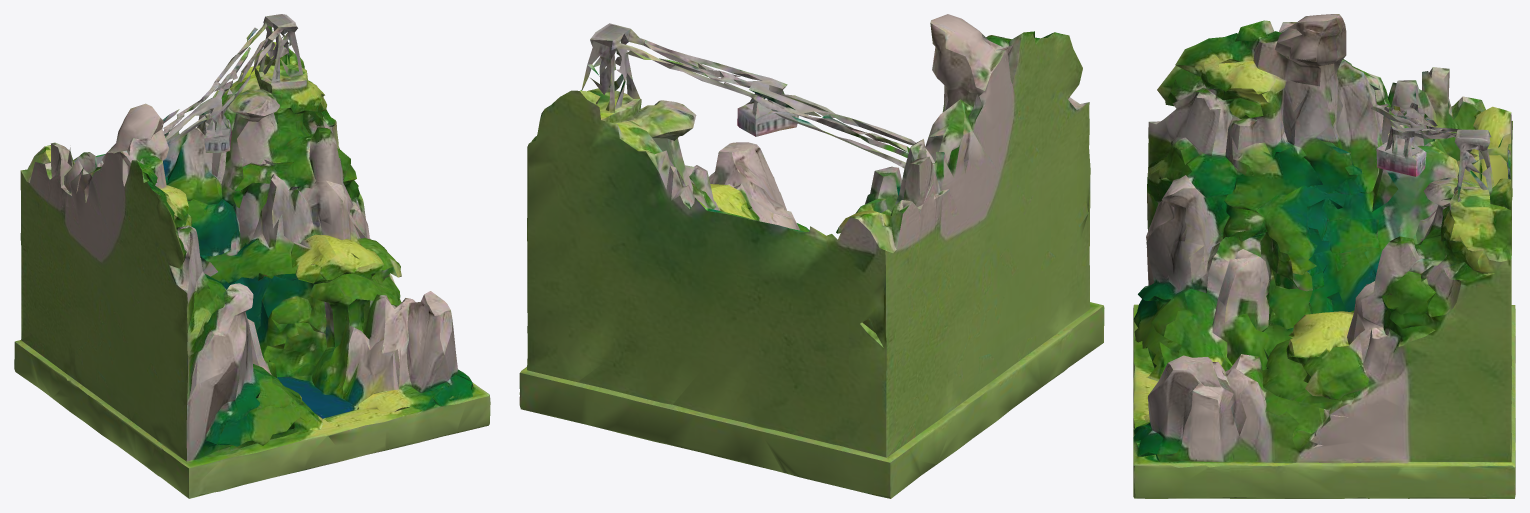
File: kankakei.glb
The picture shows the model from 3 angles, left to right: view 1: azimuth 30°, elevation 25°; view 2: azimuth 150°, elevation 25°; view 3: azimuth 270°, elevation 25°; orthographic projection. The views are drawn at different scales.
Visible parts, largest first — view 1: logan-textured.obj; view 2: logan-textured.obj; view 3: logan-textured.obj.
Part boxes in pixels (left/top/right/bottom): logan-textured.obj: left=14, top=14, right=490, bottom=498; logan-textured.obj: left=519, top=14, right=1104, bottom=498; logan-textured.obj: left=1133, top=14, right=1515, bottom=498.
Size of the model in its own units: 0.9999 by 1 by 1.
Materials: 1 (1 with a texture image).
